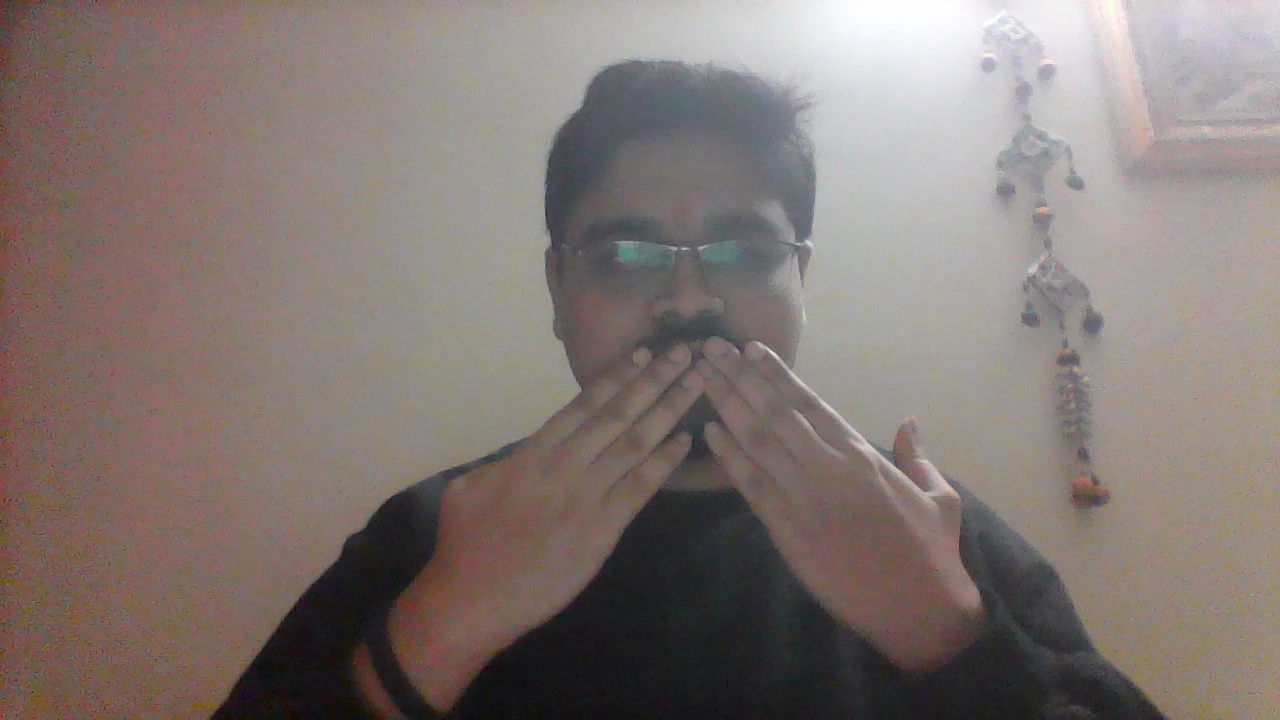Thanks: (426, 334, 972, 652)
